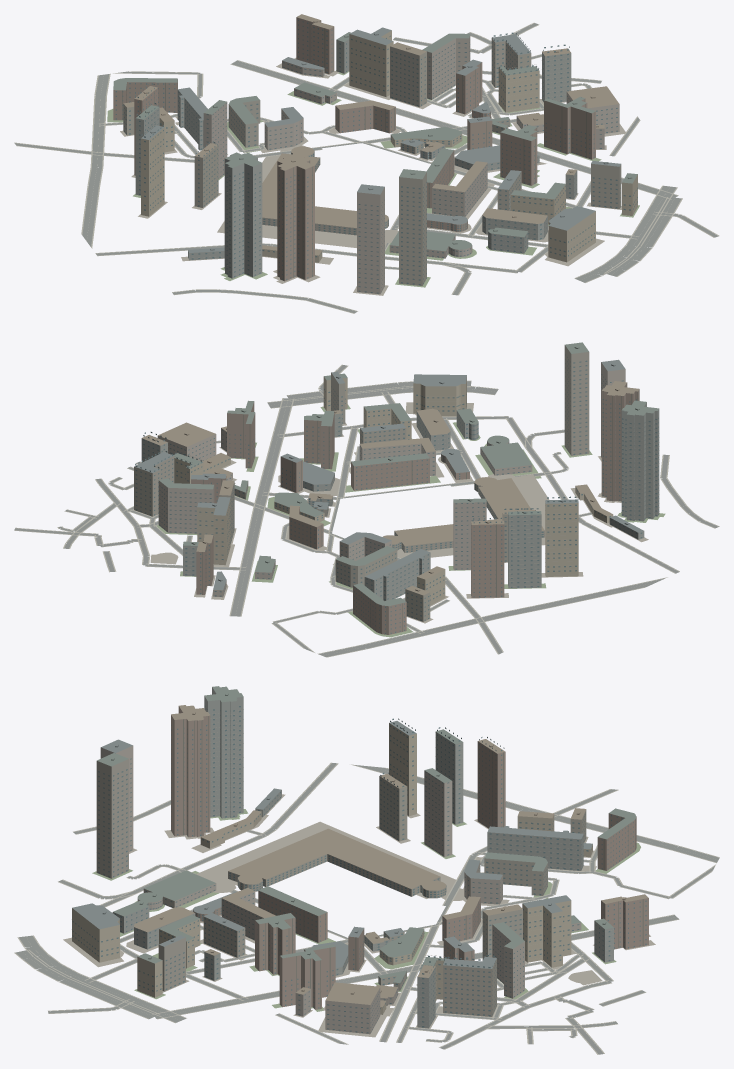
3 renders of one model, top to bottom at view 1: azimuth 30°, elevation 25°; view 2: azimuth 150°, elevation 25°; view 3: azimuth 270°, elevation 25°, orthographic. The views are drawn at different scales.
Parts seen in each view (by area): view 1: context-osm-buildings, context-osm-roads, context-osm-sidewalks, context-building-plinths; view 2: context-osm-buildings, context-osm-roads, context-osm-sidewalks, context-building-plinths; view 3: context-osm-buildings, context-osm-roads, context-osm-sidewalks, context-building-plinths.
Part boxes in pixels (left/top/right/bottom): context-osm-buildings: left=113, top=14, right=637, bottom=294; context-osm-roads: left=14, top=23, right=718, bottom=313; context-osm-sidewalks: left=14, top=22, right=719, bottom=313; context-building-plinths: left=107, top=58, right=639, bottom=295; context-osm-buildings: left=134, top=342, right=659, bottom=634; context-osm-roads: left=14, top=365, right=718, bottom=656; context-osm-sidewalks: left=14, top=364, right=719, bottom=657; context-building-plinths: left=133, top=402, right=665, bottom=637; context-osm-buildings: left=72, top=686, right=648, bottom=1034; context-osm-roads: left=15, top=763, right=719, bottom=1054; context-osm-sidewalks: left=14, top=762, right=719, bottom=1054; context-building-plinths: left=63, top=794, right=655, bottom=1037.
Size of the model in its own units: 770 by 145 by 787.
